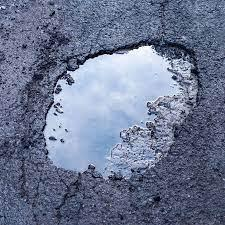pothole: (37, 31, 202, 188)
